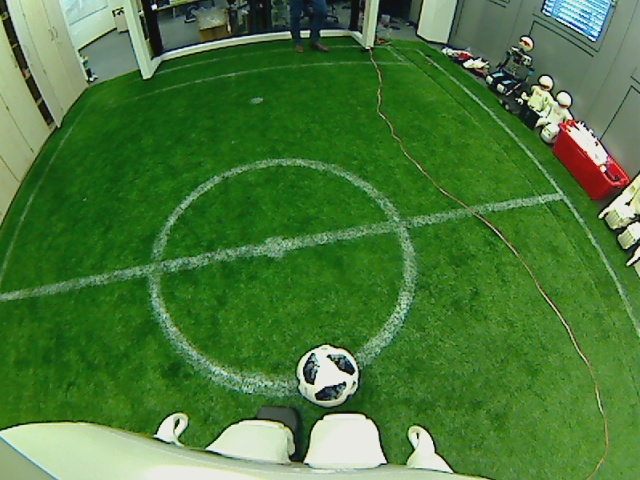ball: (294, 343, 359, 407)
